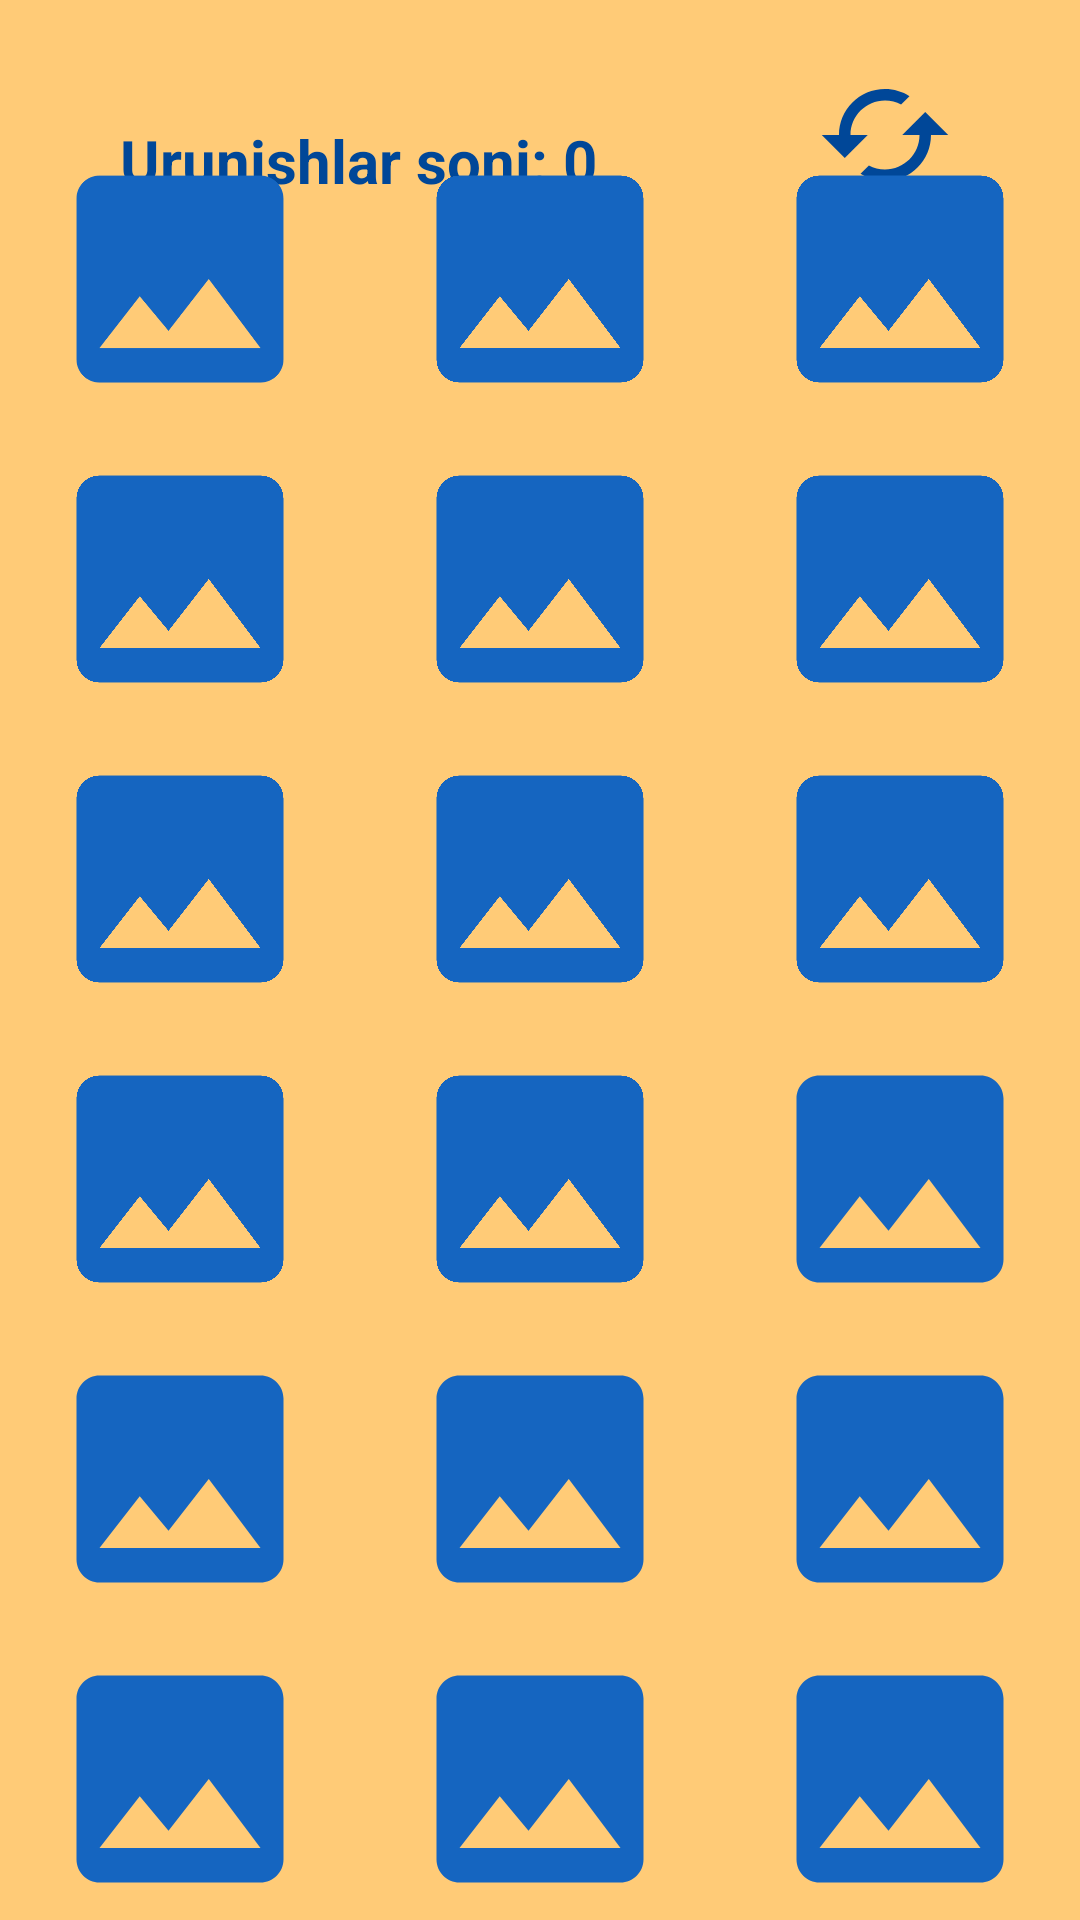

Where icons sit on this 1080x1920 app screen, as (x1, y1, x2, y2):
restart: (810, 89, 960, 210)
